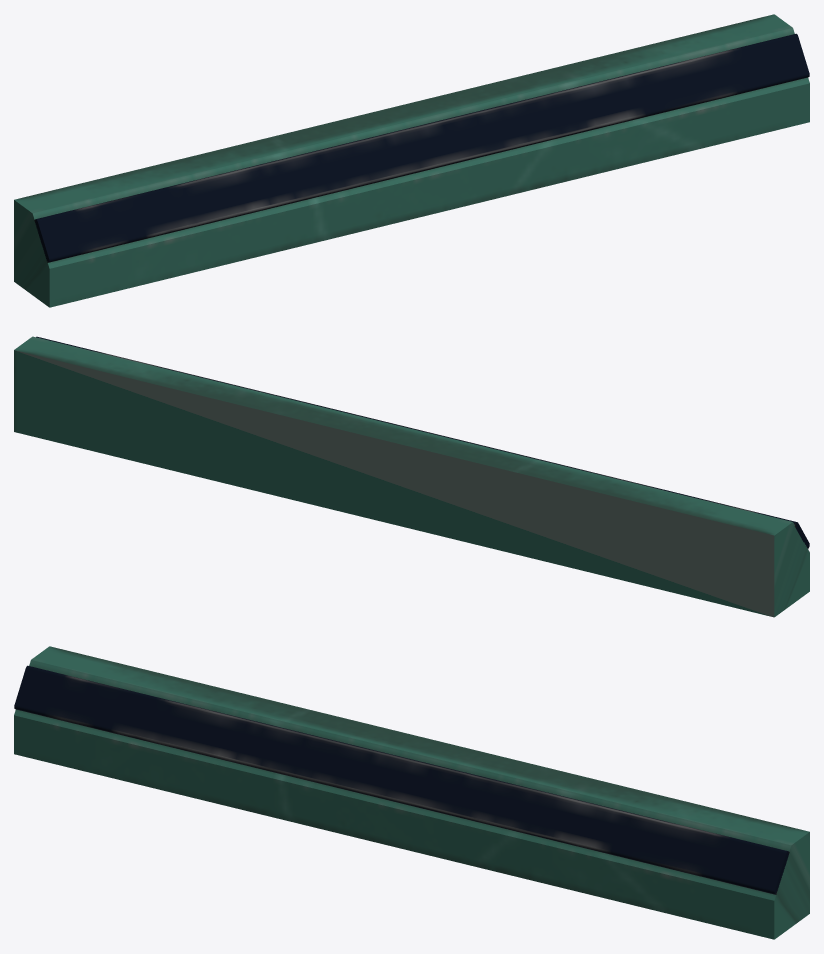
File: accessory_walllower_1 (1).fbx
The picture shows the model from 3 angles, top to bottom: view 1: azimuth 30°, elevation 25°; view 2: azimuth 150°, elevation 25°; view 3: azimuth 330°, elevation 25°; orthographic projection.
Parts seen in each view (by area): view 1: polySurface245; view 2: polySurface245; view 3: polySurface245.
Part boxes in pixels (bbox=[...]): polySurface245: bbox=[14, 14, 809, 307]; polySurface245: bbox=[14, 336, 809, 617]; polySurface245: bbox=[14, 646, 809, 939].
Bounding box in the file's own units: 29.58 × 3.05 × 2.4.
1 material, 1 textured.
